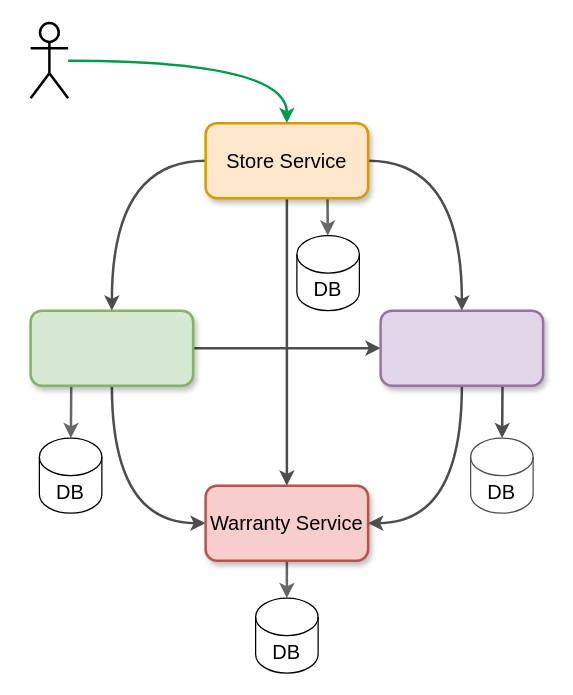
The diagram is 573 pixels wide and 695 high, and some of its shapes have lost their labels. Each missing label, with the centre of its shape:
"Order Service" belongs at (x=112, y=349).
"USER" belongs at (x=49, y=60).
"Warehouse Service" belongs at (x=462, y=349).
